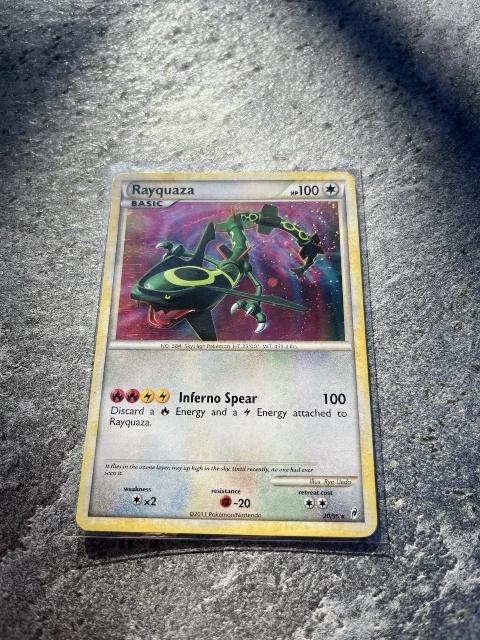Card: (71, 170, 382, 542)
Name: (126, 178, 199, 201)
